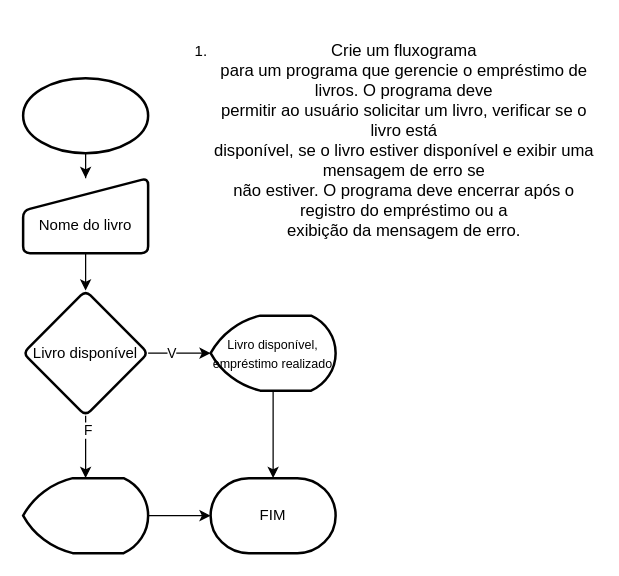
Image size: 619x576. Some labels were removed from this diagram. The box of each missing label's shape, as (x1, y1, x2, y2) in pixels:
Erro, livro não disponível: (21, 476, 149, 554)
INICIO: (21, 76, 149, 154)
